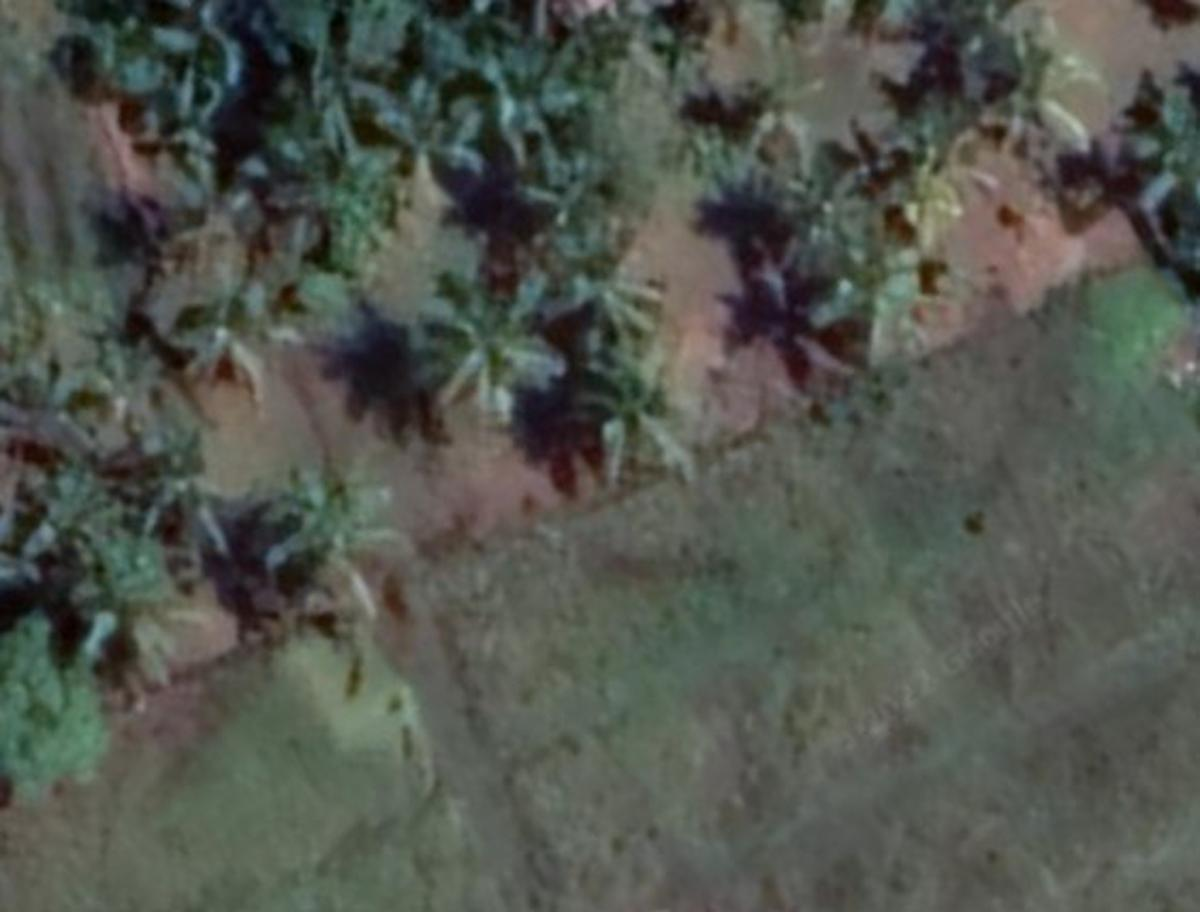coconut: (399, 266, 548, 414), (260, 459, 401, 589), (164, 269, 296, 395), (580, 350, 702, 484), (804, 239, 926, 356), (550, 254, 666, 350)
